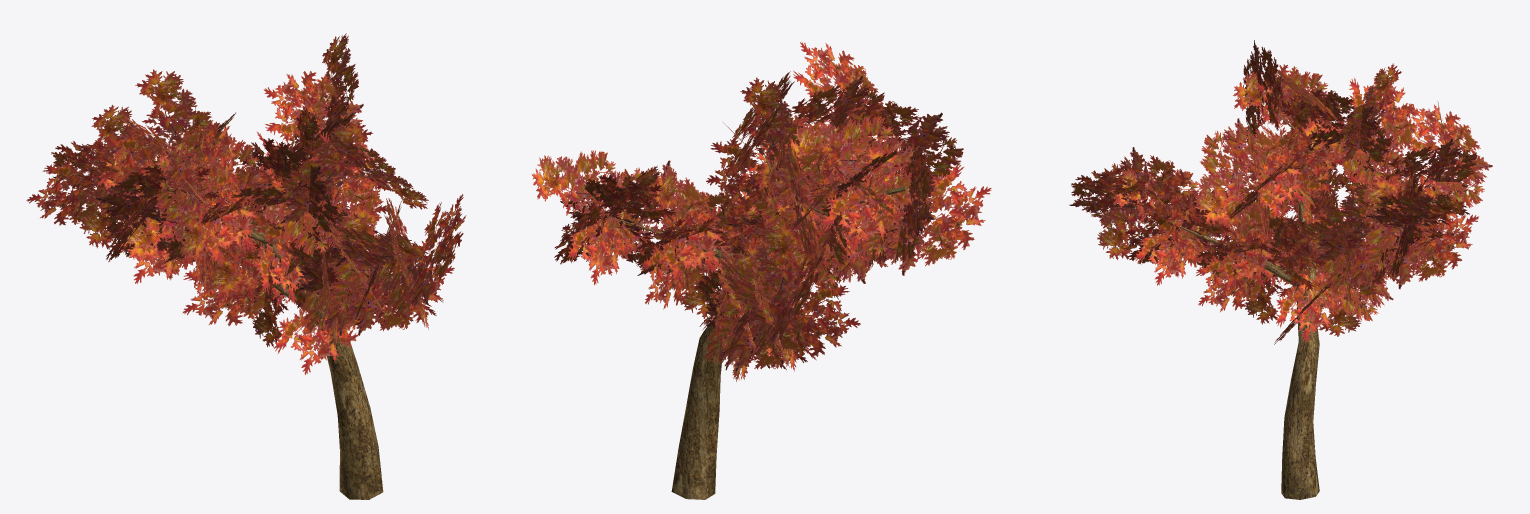
Rendered from Tree12.FBX.
The picture shows the model from 3 angles, left to right: view 1: azimuth 30°, elevation 25°; view 2: azimuth 150°, elevation 25°; view 3: azimuth 270°, elevation 25°; orthographic projection. The views are drawn at different scales.
Parts seen in each view (by area): view 1: Cylinder10, Plane96, Plane67, Plane94, Plane83, Plane70, Plane60, Plane88, Plane89, Plane84, Plane76, Plane87 (+24 smaller); view 2: Plane97, Plane60, Plane85, Plane78, Cylinder10, Plane75, Plane89, Plane92, Plane96, Plane76, Plane72, Plane56 (+24 smaller); view 3: Plane90, Plane77, Cylinder10, Plane69, Plane93, Plane59, Plane68, Plane62, Plane87, Plane65, Plane92, Plane74 (+26 smaller).
Boxes of the visible parts, x1,y1,x2,y2 form: Cylinder10: [167, 186, 383, 499]; Plane96: [156, 121, 245, 259]; Plane67: [330, 203, 454, 335]; Plane94: [99, 69, 226, 195]; Plane83: [120, 150, 257, 265]; Plane70: [374, 194, 466, 318]; Plane60: [26, 105, 139, 225]; Plane88: [257, 130, 383, 256]; Plane89: [280, 121, 390, 235]; Plane84: [96, 164, 220, 259]; Plane76: [263, 71, 368, 185]; Plane87: [238, 138, 337, 267]; Plane97: [785, 116, 917, 251]; Plane60: [734, 221, 860, 357]; Plane85: [854, 145, 991, 275]; Plane78: [531, 150, 634, 285]; Cylinder10: [671, 186, 906, 499]; Plane75: [585, 160, 723, 282]; Plane89: [706, 77, 814, 213]; Plane92: [760, 144, 866, 278]; Plane96: [836, 101, 963, 212]; Plane76: [560, 174, 676, 271]; Plane72: [656, 190, 786, 318]; Plane56: [715, 242, 822, 372]; Plane90: [1194, 118, 1306, 226]; Plane77: [1362, 175, 1478, 289]; Cylinder10: [1281, 125, 1319, 499]; Plane69: [1097, 147, 1202, 259]; Plane93: [1298, 68, 1417, 185]; Plane59: [1398, 103, 1492, 208]; Plane68: [1111, 168, 1207, 285]; Plane62: [1228, 215, 1326, 324]; Plane87: [1229, 131, 1346, 232]; Plane65: [1161, 189, 1275, 291]; Plane92: [1281, 89, 1391, 195]; Plane74: [1310, 182, 1419, 284].
Bounding box in the file's own units: 314 × 340 × 381.
2 materials, 2 textured.
